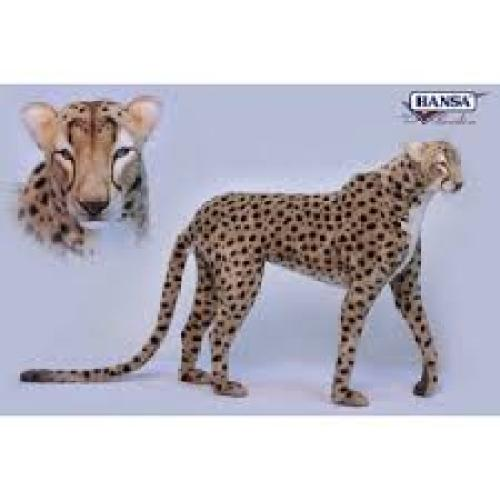cheetah-endangered: (21, 137, 465, 405), (23, 91, 163, 257)
